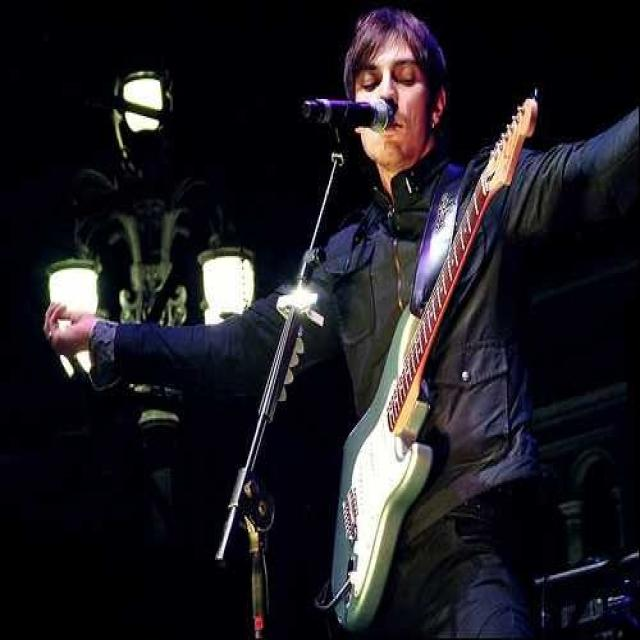microphone: (299, 85, 409, 138)
